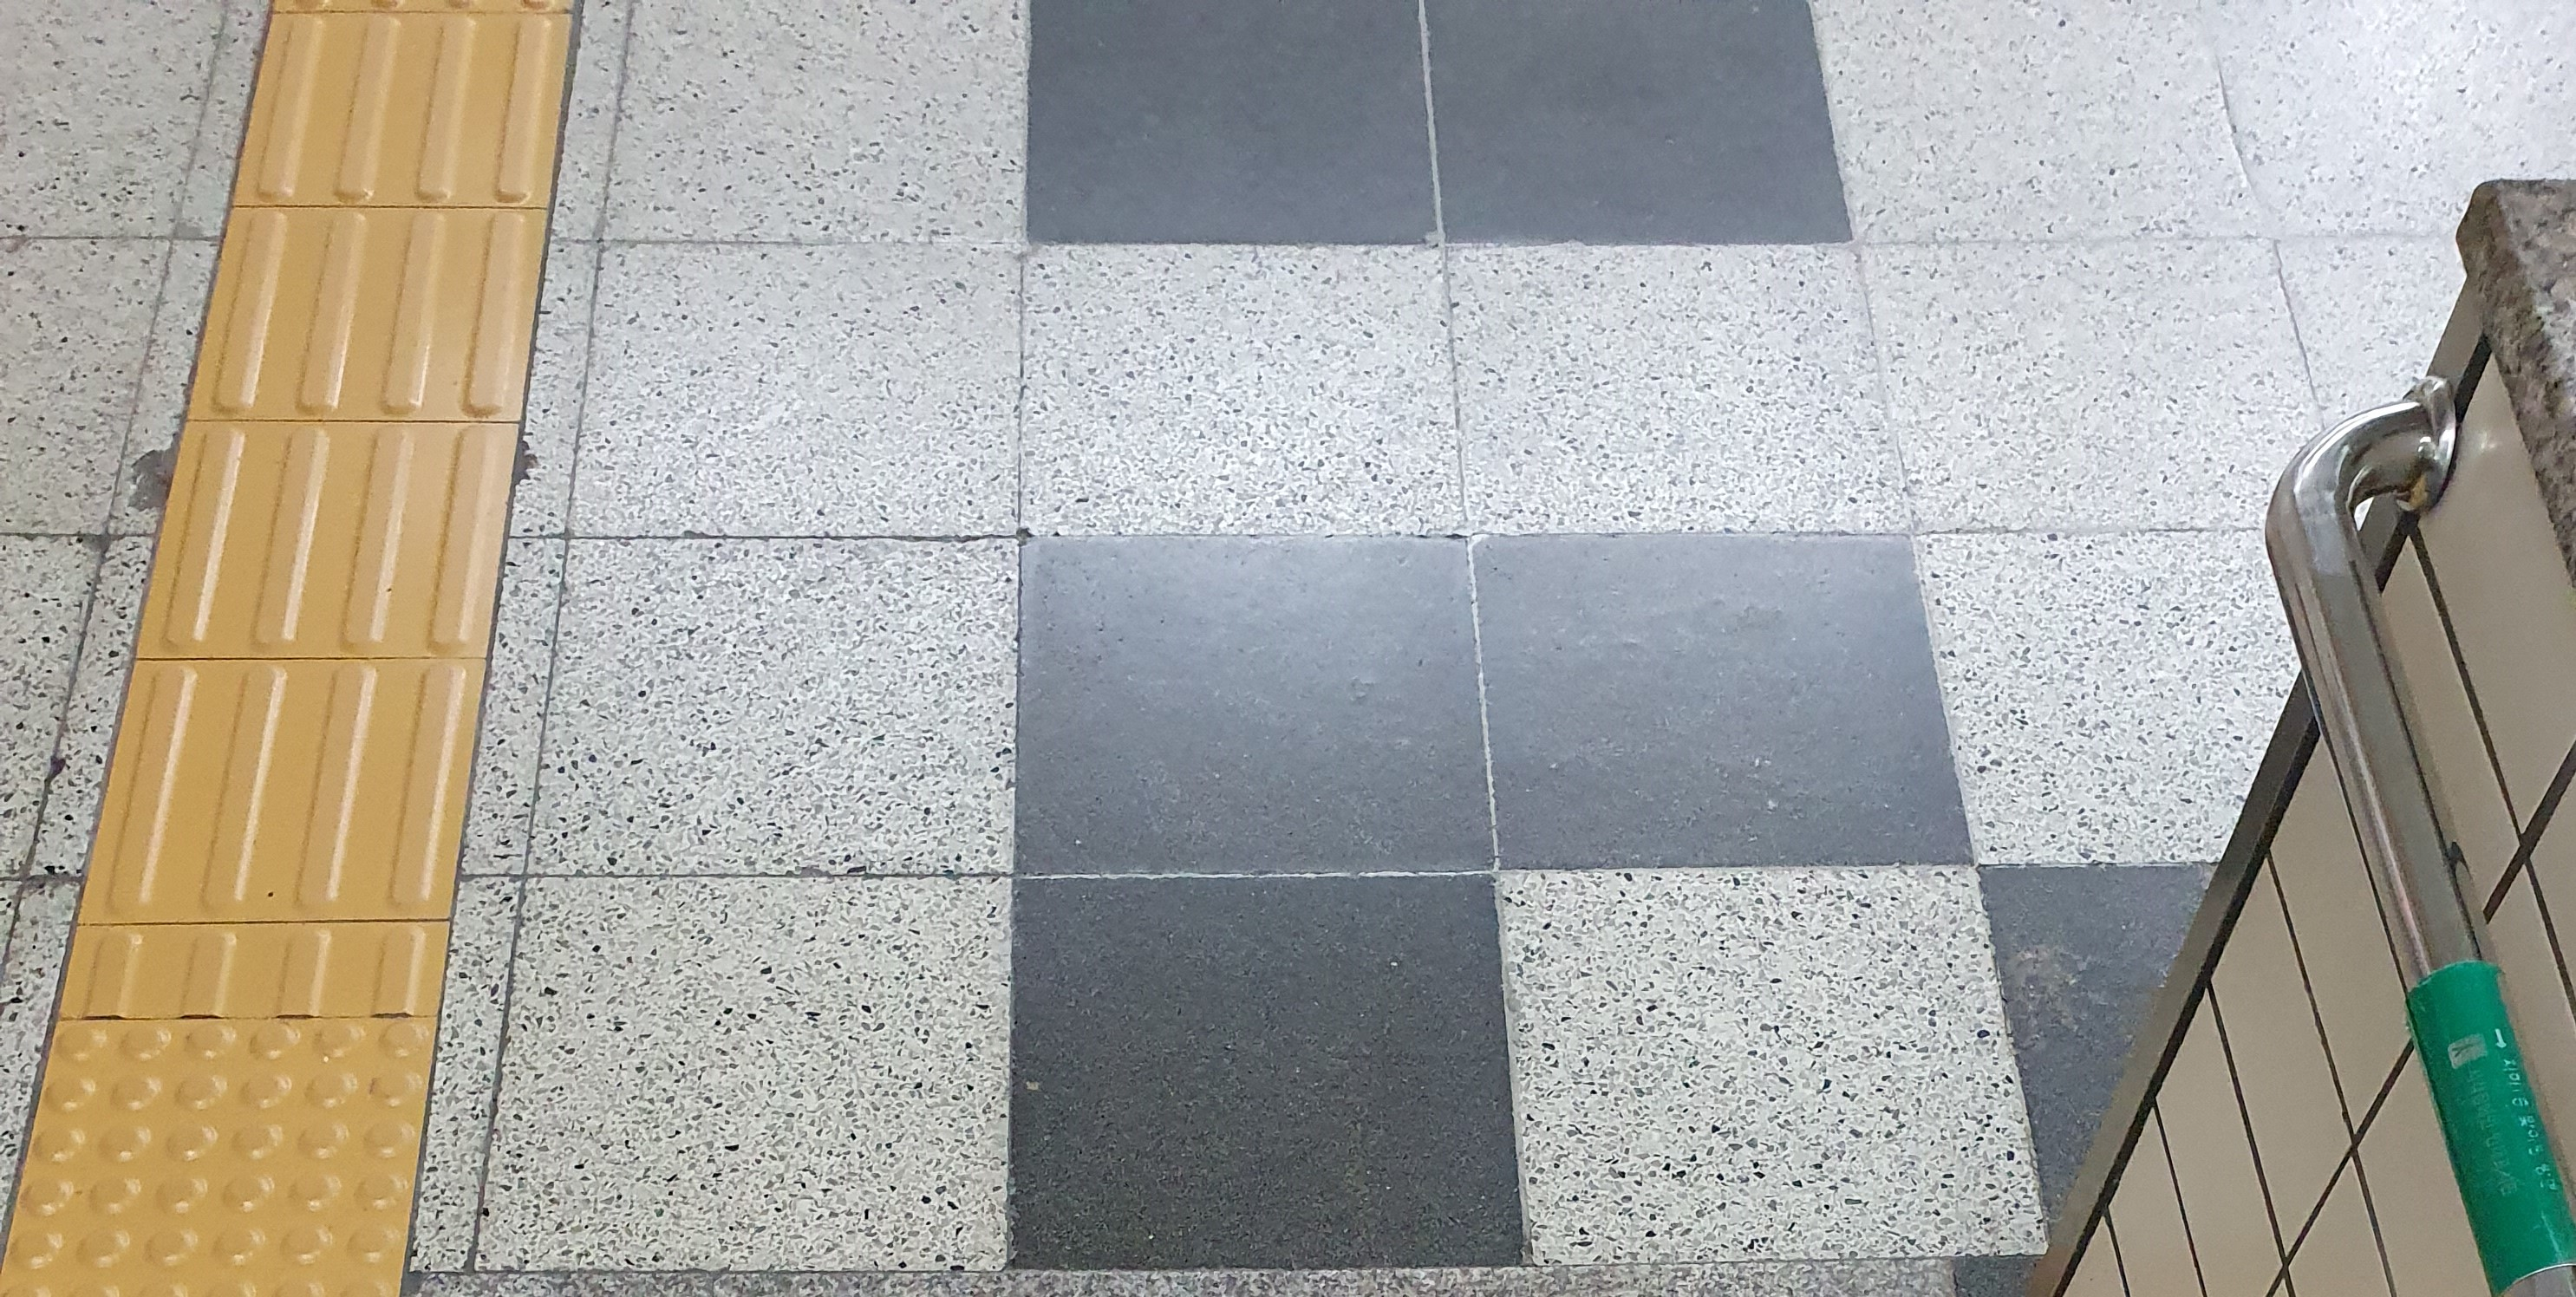guideBlock: (165, 425, 475, 696), (124, 678, 438, 920), (280, 10, 548, 228), (210, 227, 488, 417)
warningBlock: (22, 1031, 415, 1297)
